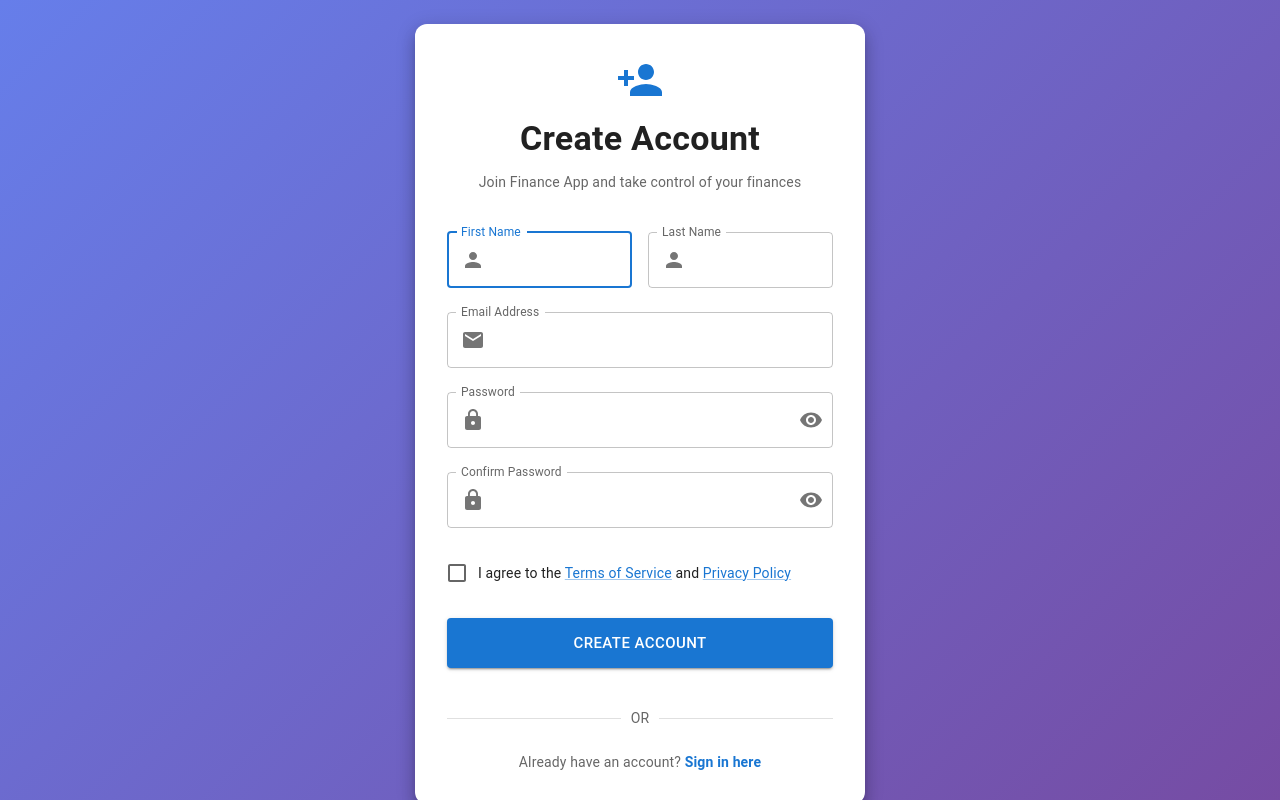
Test: Register Component › Form Validation › shows validation error for weak password
The image size is (1280, 800).
Type "weak" into the password field labelled "Password" at (638, 420), box left=493, top=392, right=783, bottom=448
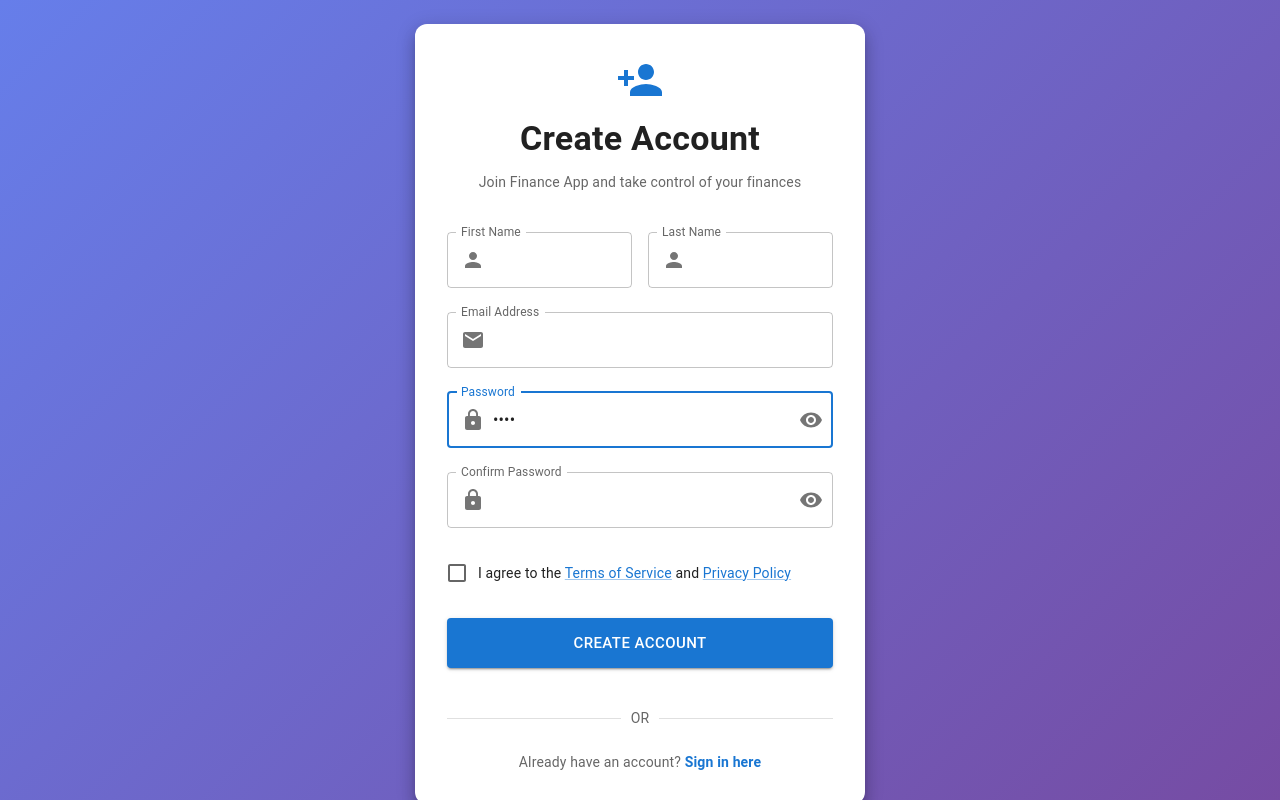
Click the button "Create Account" at (640, 643), box left=447, top=618, right=833, bottom=668
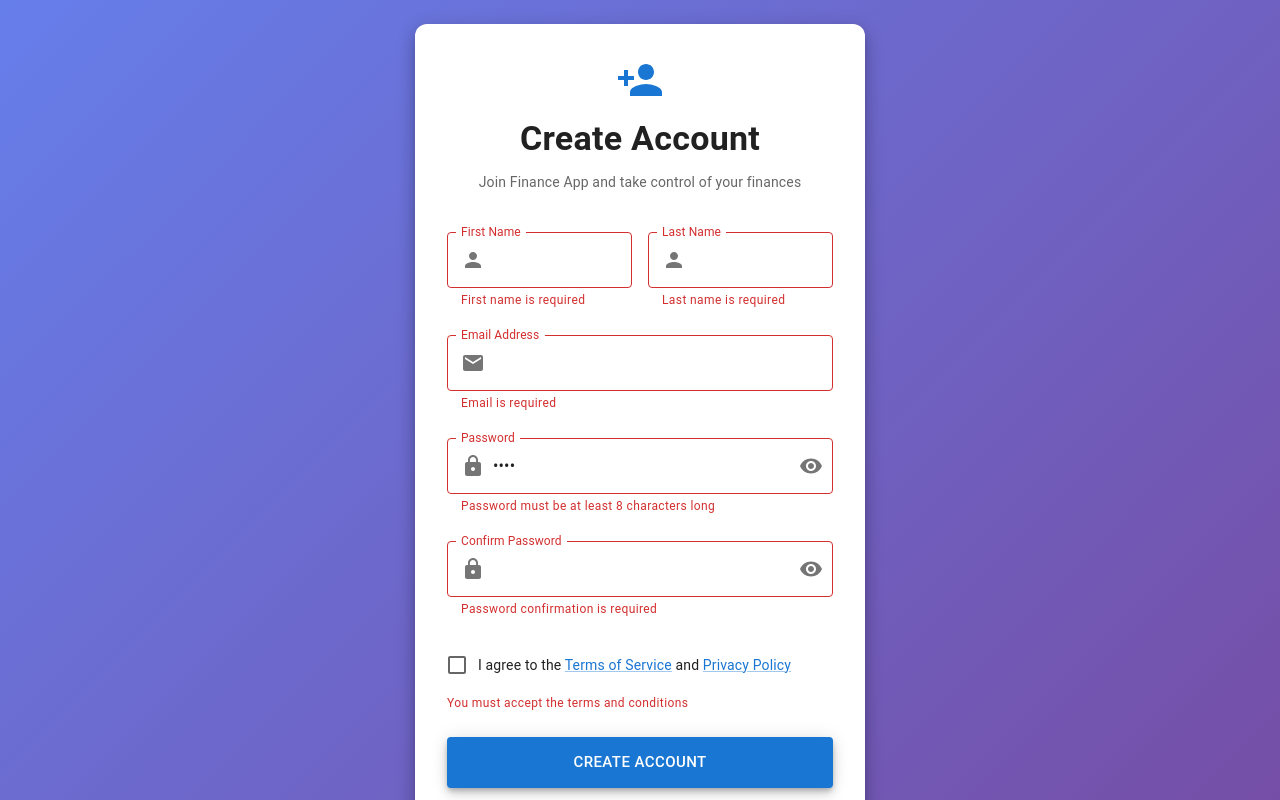
Check: the text "Password must be at least 8 characters long" is shown, box left=461, top=499, right=715, bottom=513
